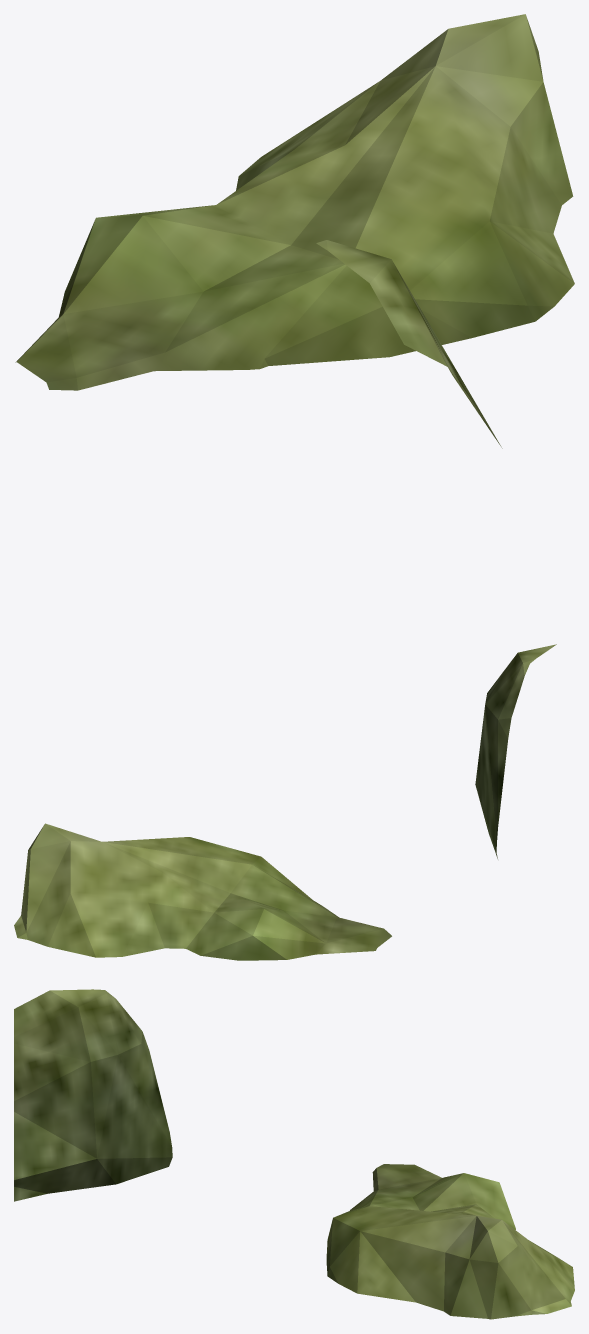
3 views of the same model, one above another, from view 1: azimuth 30°, elevation 25°; view 2: azimuth 150°, elevation 25°; view 3: azimuth 270°, elevation 25° (orthographic). The views are drawn at different scales.
Bounding box in the file's own units: 1.26 × 0.6846 × 1.96.
Materials: 1 (1 with a texture image).
